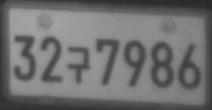2: (40, 35, 63, 82)
3: (13, 35, 37, 80)
6: (177, 42, 201, 88)
7: (95, 38, 120, 85)
8: (150, 40, 174, 88)
9: (123, 38, 147, 86)
구: (65, 46, 91, 84)
